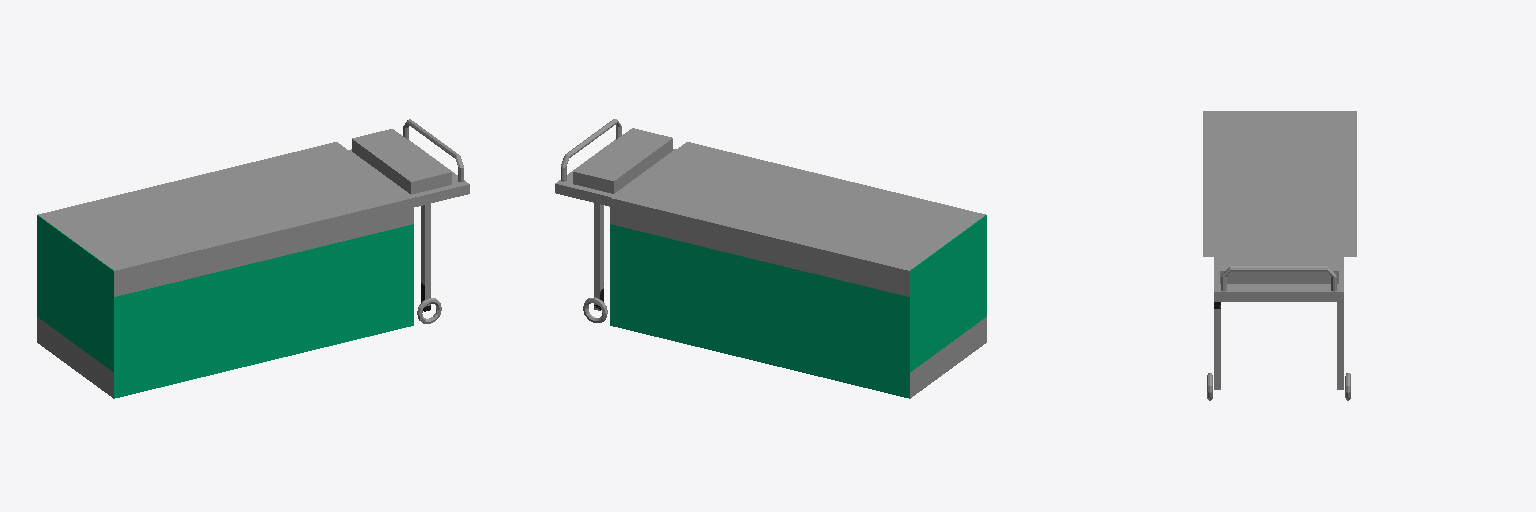
3 views of the same model, side by side, from view 1: azimuth 30°, elevation 25°; view 2: azimuth 150°, elevation 25°; view 3: azimuth 270°, elevation 25° (orthographic).
Visible parts, largest first — view 1: Cube_Cube.001; view 2: Cube_Cube.001; view 3: Cube_Cube.001.
Part boxes in pixels (bbox=[...]): Cube_Cube.001: bbox=[37, 119, 469, 398]; Cube_Cube.001: bbox=[555, 119, 986, 398]; Cube_Cube.001: bbox=[1203, 111, 1356, 400].
Size of the model in its own units: 5.42 by 2.18 by 2.
1 materials, 1 textured.